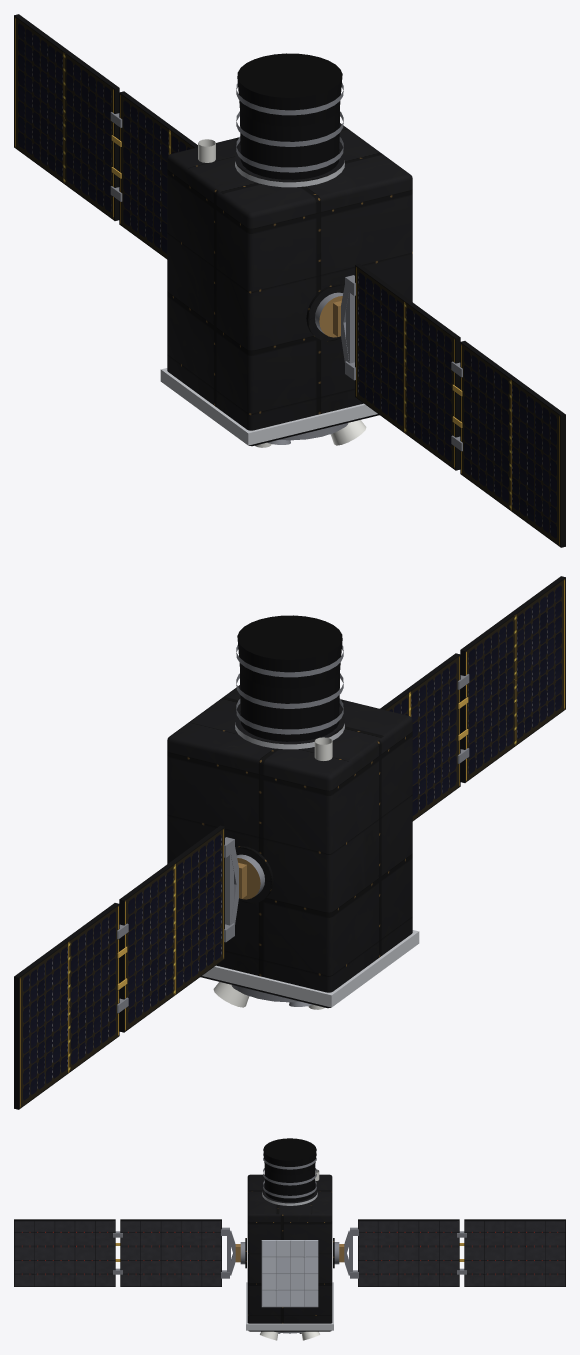
Rendered from blacksky.glb.
3 views of the same model, one above another, from view 1: azimuth 30°, elevation 25°; view 2: azimuth 150°, elevation 25°; view 3: azimuth 270°, elevation 25° (orthographic). The views are drawn at different scales.
Visible parts, largest first — view 1: bus, wing-Y, wing+Y, sadm_-Y; view 2: bus, wing+Y, wing-Y, sadm_+Y; view 3: bus, wing+Y, wing-Y.
Boxes of the visible parts, x1,y1,x2,y2 form: bus: (160,53,412,447); wing-Y: (333,263,565,547); wing+Y: (14,14,197,259); sadm_-Y: (306,284,344,341); bus: (167,615,419,1009); wing+Y: (14,825,246,1109); wing-Y: (380,576,565,821); sadm_+Y: (235,846,273,903); bus: (246,1138,333,1340); wing+Y: (339,1219,565,1286); wing-Y: (14,1219,240,1286).
Size of the model in its own units: 0.88 by 1.78 by 4.88.
Materials: 14 (4 with a texture image).
